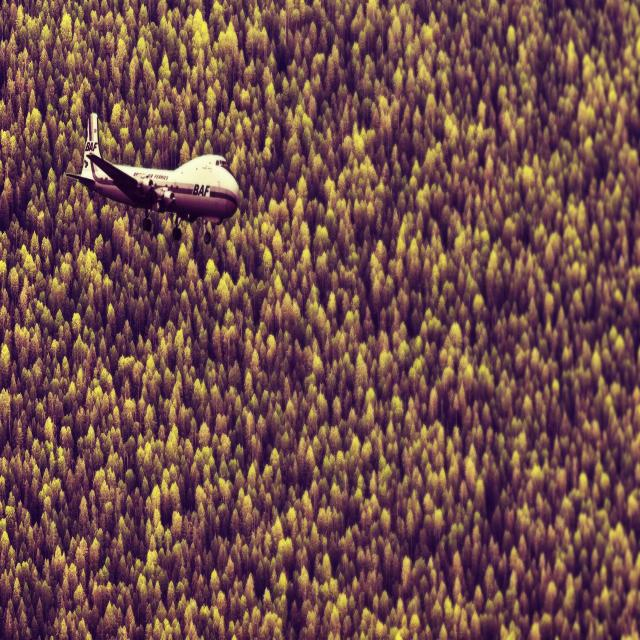airplane: (64, 111, 240, 245)
